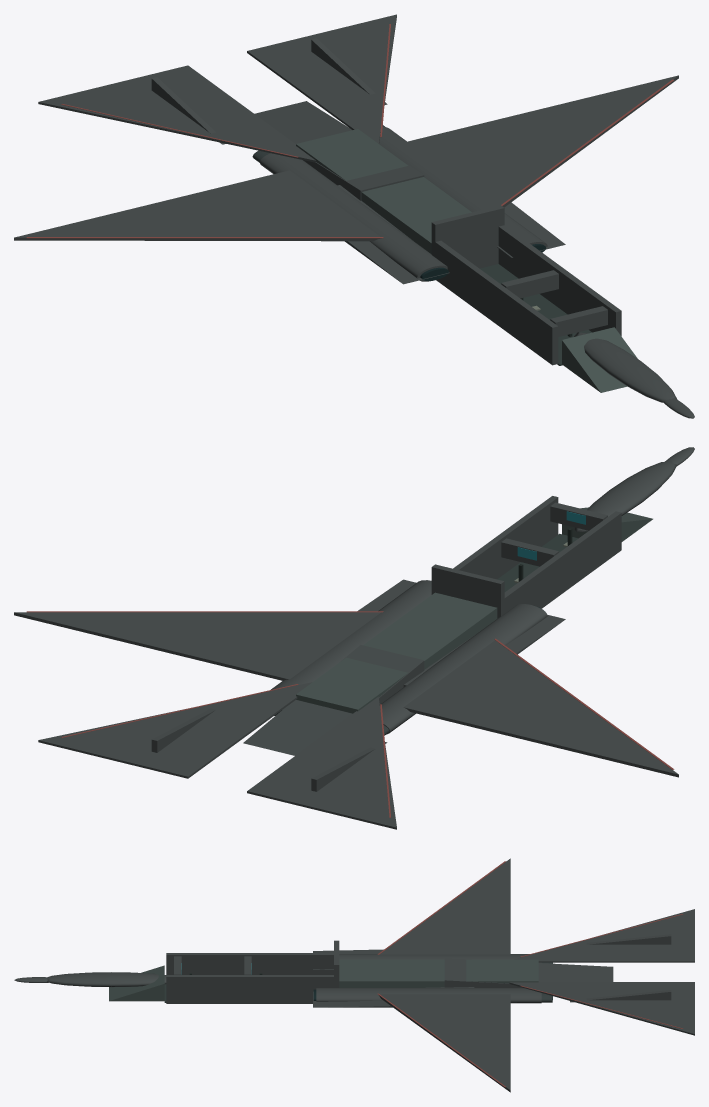
The model's file is CMU3DInteriorCMUFighterHull.glb.
3 views of the same model, one above another, from view 1: azimuth 30°, elevation 25°; view 2: azimuth 150°, elevation 25°; view 3: azimuth 270°, elevation 25° (orthographic). The views are drawn at different scales.
Parts seen in each view (by area): view 1: swept triangular wing (×2), forked tail plane (×2), cockpit side consoles (×2), rear fuselage, engine nacelle (×2), spine engine fairing, rear cockpit bulkhead, tapered nose, forward keel, instrument coaming (×2), fixed wing root (×2), tail fin (×2) (+2 smaller); view 2: swept triangular wing (×2), forked tail plane (×2), rear fuselage, cockpit side consoles (×2), engine nacelle (×2), spine engine fairing, tapered nose, rear cockpit bulkhead, instrument coaming (×2), fixed wing root (×2), tail fin (×2), cockpit floor (+2 smaller); view 3: swept triangular wing (×2), forked tail plane (×2), cockpit side consoles (×2), rear fuselage, engine nacelle (×2), spine engine fairing, tapered nose, tail fin (×2), forward keel, fixed wing root.
Boxes of the visible parts, x1=… form: swept triangular wing (×2): x1=14, y1=75, x2=678, y2=241; forked tail plane (×2): x1=38, y1=14, x2=396, y2=162; cockpit side consoles (×2): x1=435, y1=225, x2=621, y2=365; rear fuselage: x1=296, y1=129, x2=471, y2=253; engine nacelle (×2): x1=259, y1=126, x2=547, y2=281; spine engine fairing: x1=254, y1=101, x2=424, y2=200; rear cockpit bulkhead: x1=431, y1=205, x2=504, y2=268; tapered nose: x1=574, y1=332, x2=677, y2=402; forward keel: x1=562, y1=327, x2=637, y2=392; instrument coaming (×2): x1=501, y1=270, x2=607, y2=336; fixed wing root (×2): x1=337, y1=185, x2=565, y2=284; tail fin (×2): x1=151, y1=38, x2=387, y2=144; swept triangular wing (×2): x1=14, y1=612, x2=678, y2=777; forked tail plane (×2): x1=38, y1=682, x2=396, y2=829; rear fuselage: x1=296, y1=592, x2=497, y2=713; cockpit side consoles (×2): x1=453, y1=496, x2=621, y2=614; engine nacelle (×2): x1=271, y1=580, x2=547, y2=734; spine engine fairing: x1=243, y1=645, x2=424, y2=755; tapered nose: x1=574, y1=461, x2=677, y2=532; rear cockpit bulkhead: x1=431, y1=564, x2=504, y2=618; instrument coaming (×2): x1=501, y1=502, x2=607, y2=566; fixed wing root (×2): x1=357, y1=579, x2=565, y2=686; tail fin (×2): x1=151, y1=708, x2=387, y2=791; cockpit floor: x1=497, y1=533, x2=578, y2=591; swept triangular wing (×2): x1=379, y1=858, x2=510, y2=1092; forked tail plane (×2): x1=509, y1=909, x2=694, y2=1035; cockpit side consoles (×2): x1=166, y1=953, x2=336, y2=1003; rear fuselage: x1=339, y1=959, x2=538, y2=987; engine nacelle (×2): x1=316, y1=954, x2=541, y2=1003; spine engine fairing: x1=444, y1=958, x2=613, y2=987; tapered nose: x1=46, y1=972, x2=166, y2=987; tail fin (×2): x1=570, y1=934, x2=671, y2=1002; forward keel: x1=109, y1=965, x2=164, y2=1001; fixed wing root: x1=313, y1=987, x2=474, y2=1007.
Bounding box in the file's own units: 16.68 × 1.34 × 20.68.
